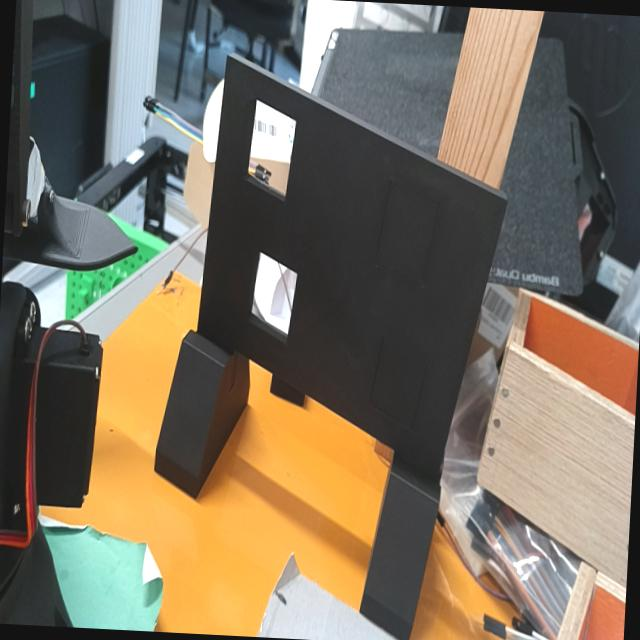Obstacle: (247, 99, 296, 200), (249, 251, 299, 341)
Wall: (198, 56, 507, 473)
